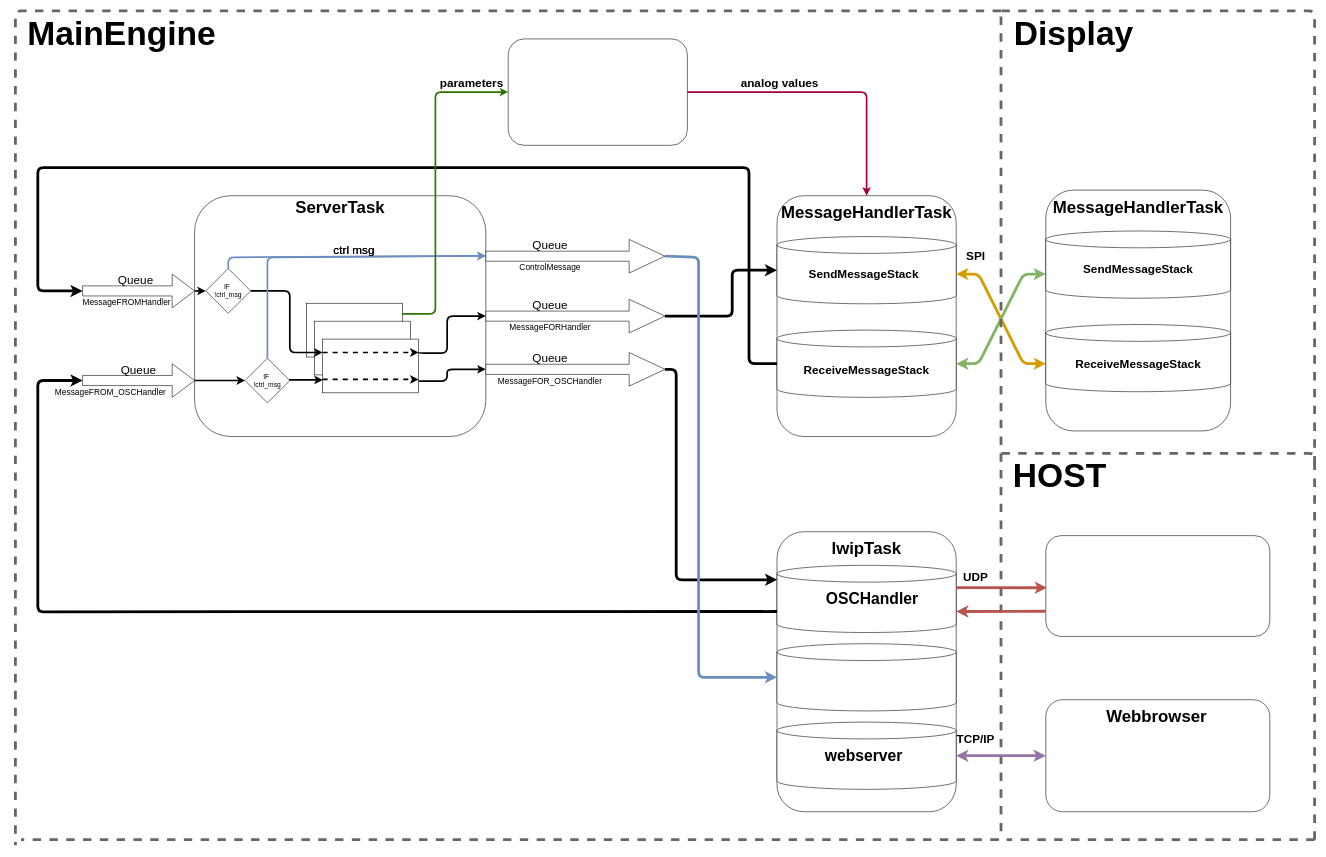
Some shapes in this 1326 by 857 pixel diagram are drawn without their labels. The box of each missing label's shape, as (x1, y1, x2, y2) in pixels:
BootLoaderHandler: (776, 643, 956, 711)
CurrentValueTable: (322, 339, 419, 393)
dspTask: (508, 38, 687, 145)
Plugin: (1045, 535, 1270, 636)
